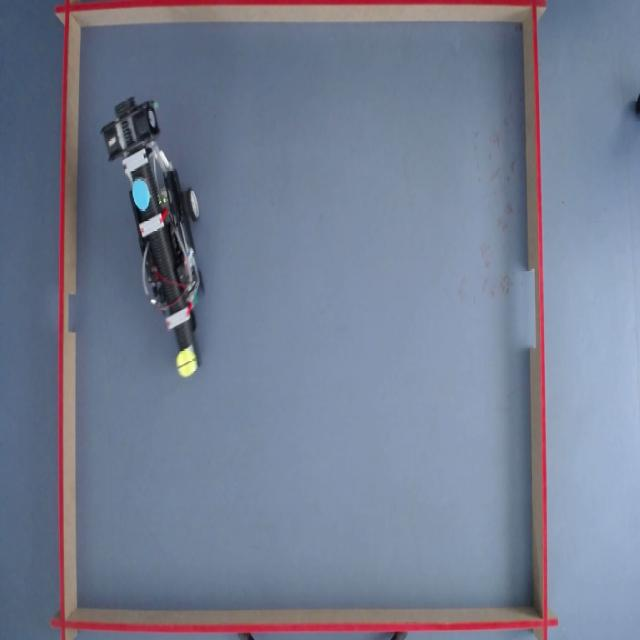robot: (97, 87, 206, 366)
robot-front: (175, 350, 198, 378)
robot-rear: (134, 172, 152, 215)
